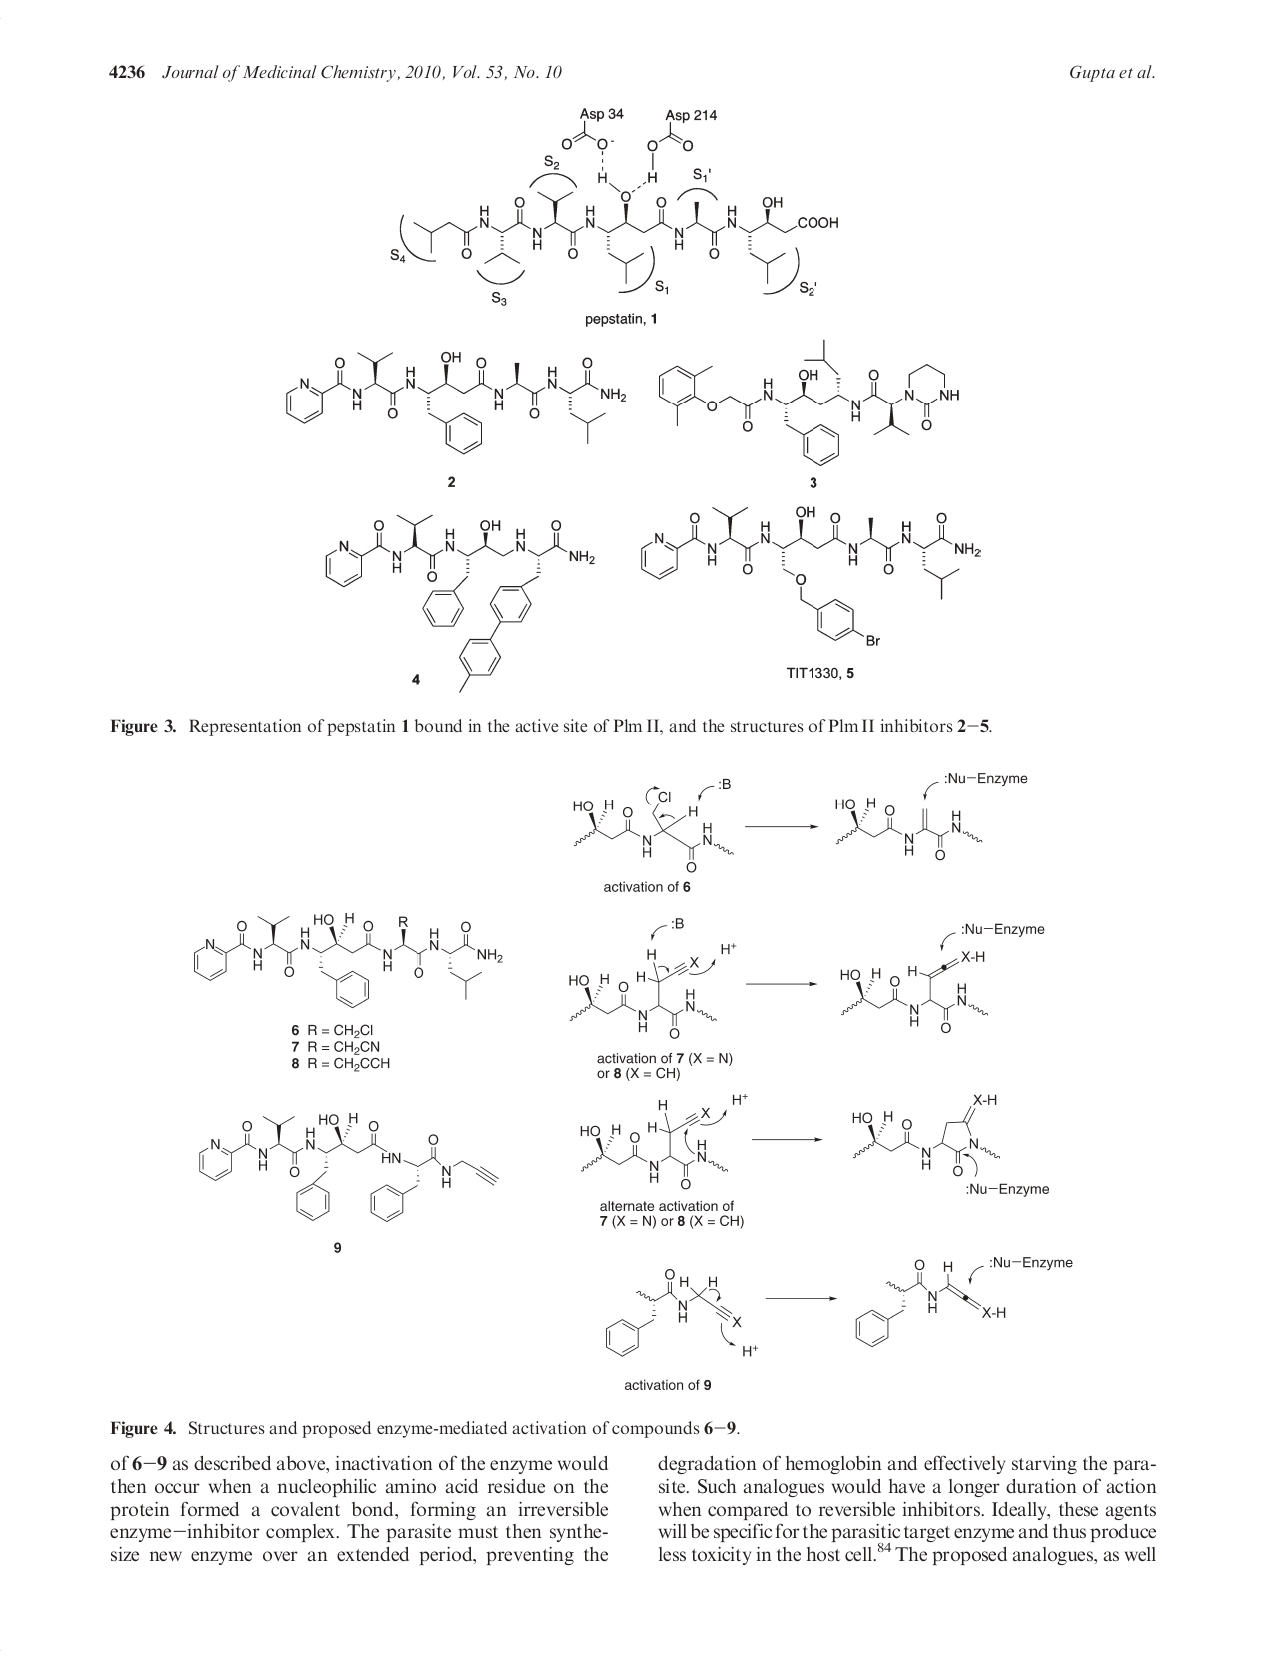exist_molecular: (386, 102, 843, 305), (634, 495, 985, 652), (320, 507, 597, 696), (657, 332, 964, 468), (277, 344, 630, 453), (195, 1109, 505, 1225), (185, 910, 507, 1007), (850, 1255, 1076, 1348), (574, 1093, 739, 1193), (604, 1265, 761, 1360), (567, 789, 739, 875), (567, 944, 723, 1039), (840, 1089, 1000, 1181), (834, 950, 997, 1037), (830, 793, 989, 860)
